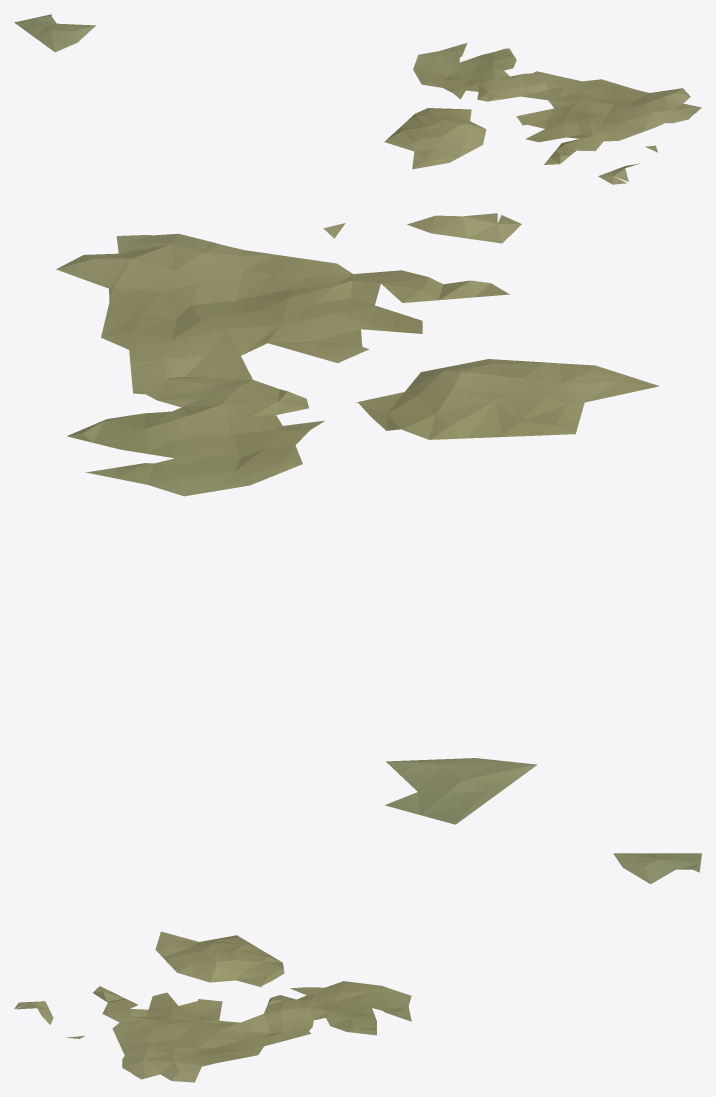
3 renders of one model, top to bottom at view 1: azimuth 30°, elevation 25°; view 2: azimuth 150°, elevation 25°; view 3: azimuth 270°, elevation 25°, orthographic. The views are drawn at different scales.
Parts seen in each view (by area): view 1: 不列颠丘陵; view 2: 不列颠丘陵; view 3: 不列颠丘陵.
Part boxes in pixels (left/top/right/bottom): 不列颠丘陵: left=14, top=14, right=701, bottom=184; 不列颠丘陵: left=56, top=213, right=659, bottom=824; 不列颠丘陵: left=14, top=853, right=701, bottom=1082.
Bounding box in the file's own units: 15.91 × 0.3946 × 20.19.
